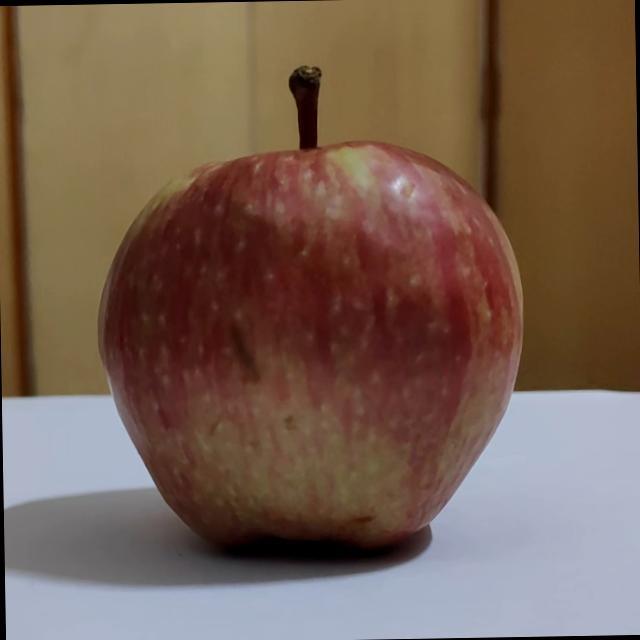apple: (85, 54, 537, 562)
